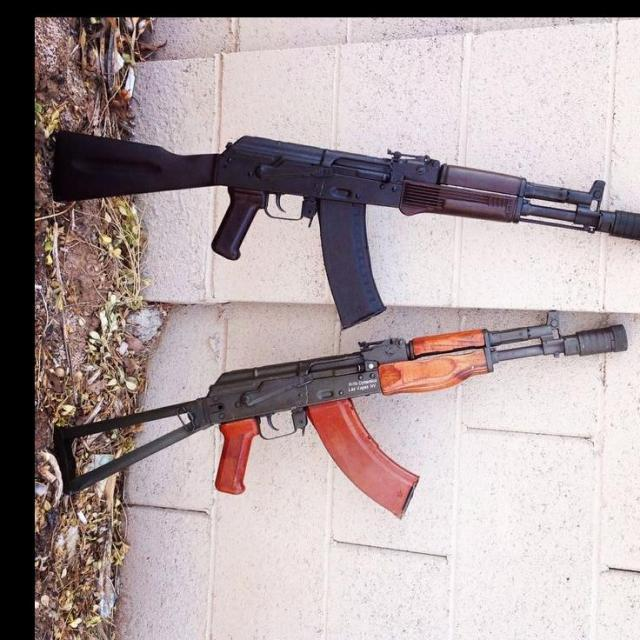weapon: (50, 308, 630, 521), (55, 130, 640, 332)
